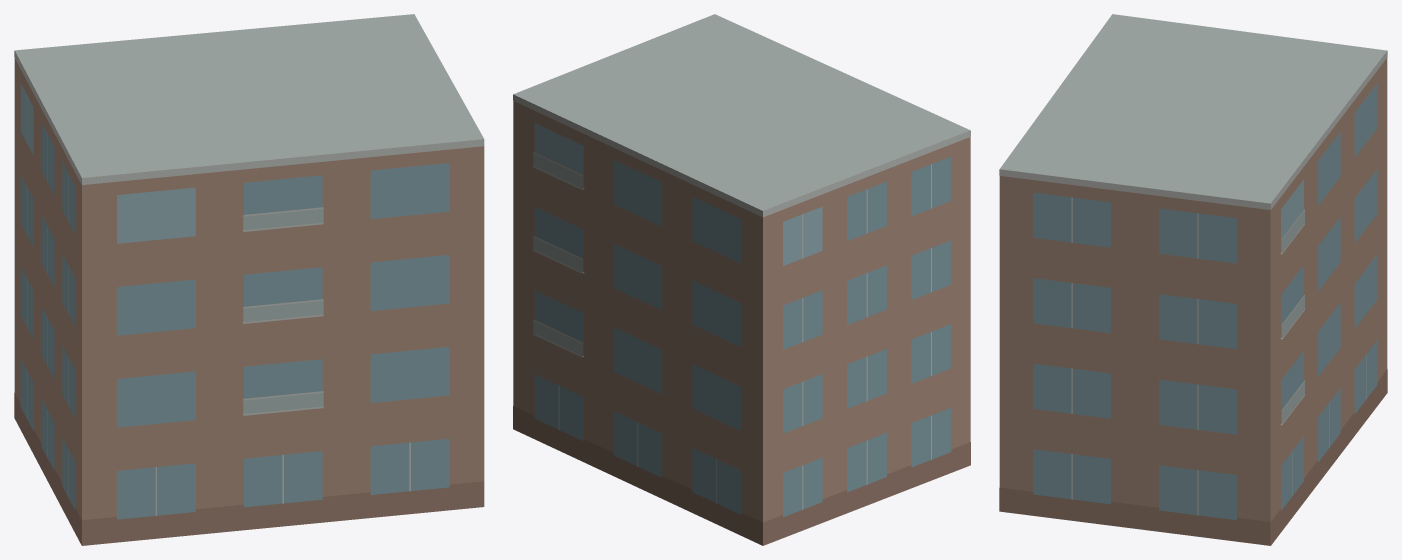
File: survey-upis-32944977.glb
The picture shows the model from 3 angles, left to right: view 1: azimuth 30°, elevation 25°; view 2: azimuth 150°, elevation 25°; view 3: azimuth 270°, elevation 25°; orthographic projection. The views are drawn at different scales.
Visible parts, largest first — view 1: survey-upis-32944977.tmp; view 2: survey-upis-32944977.tmp; view 3: survey-upis-32944977.tmp.
Boxes of the visible parts, x1=… form: survey-upis-32944977.tmp: x1=14, y1=14, x2=484, y2=545; survey-upis-32944977.tmp: x1=513, y1=14, x2=970, y2=545; survey-upis-32944977.tmp: x1=999, y1=14, x2=1387, y2=545.
Bounding box in the file's own units: 15.22 × 12.8 × 13.16.
